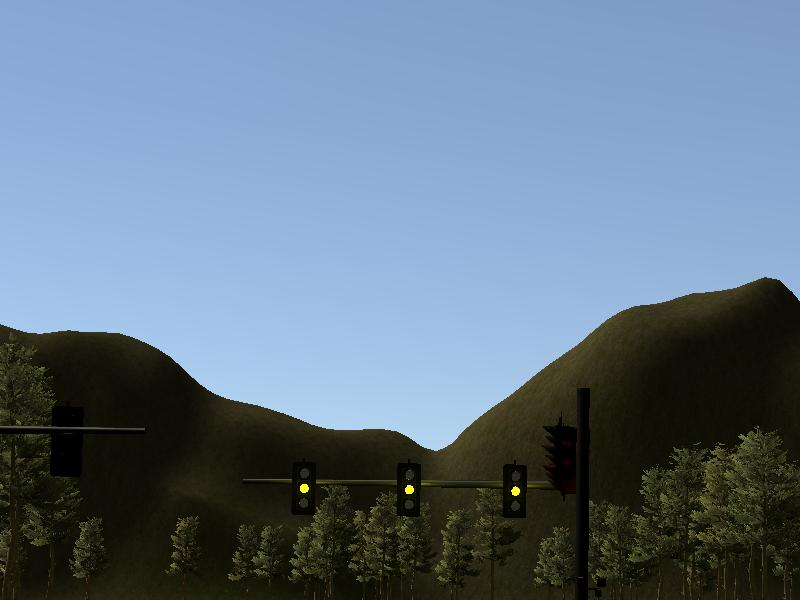Yellow: (292, 461, 316, 515), (503, 465, 527, 517), (397, 465, 420, 517)
